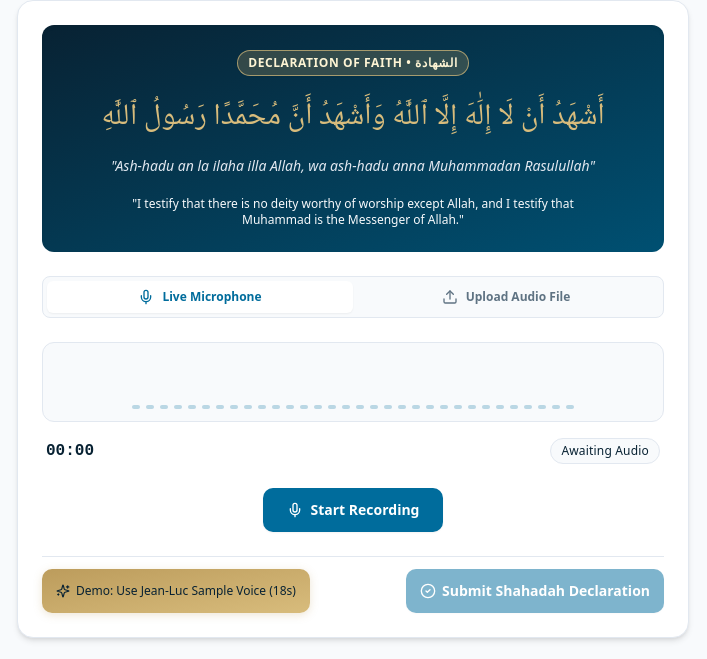
ShahadahRecorder Component (Task 3.1 & 3.2) › handles recording lifecycle: start recording, stop recording, and displays preview
Click the button "Start Recording".
click(353, 510)  # box [262,488,444,532]
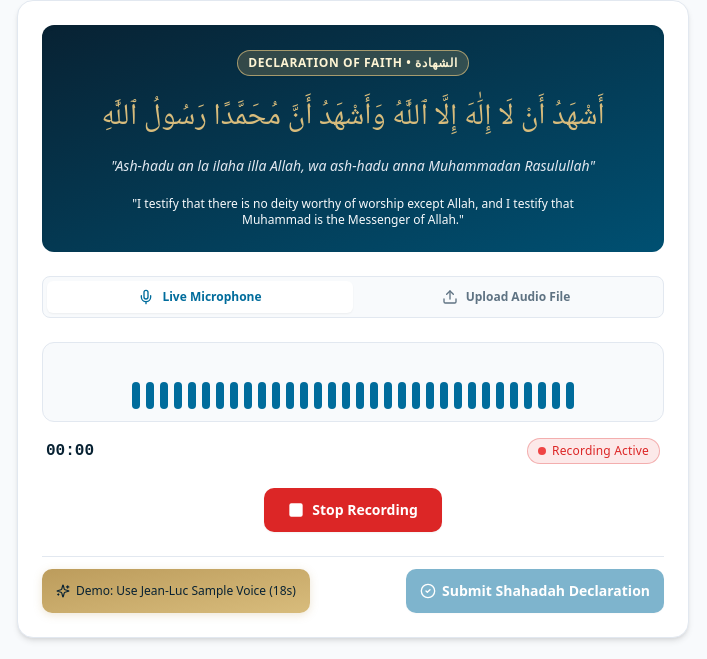
Check: the button "Stop Recording" is shown
Click the button "Stop Recording".
click(353, 510)  # box [264,488,442,532]
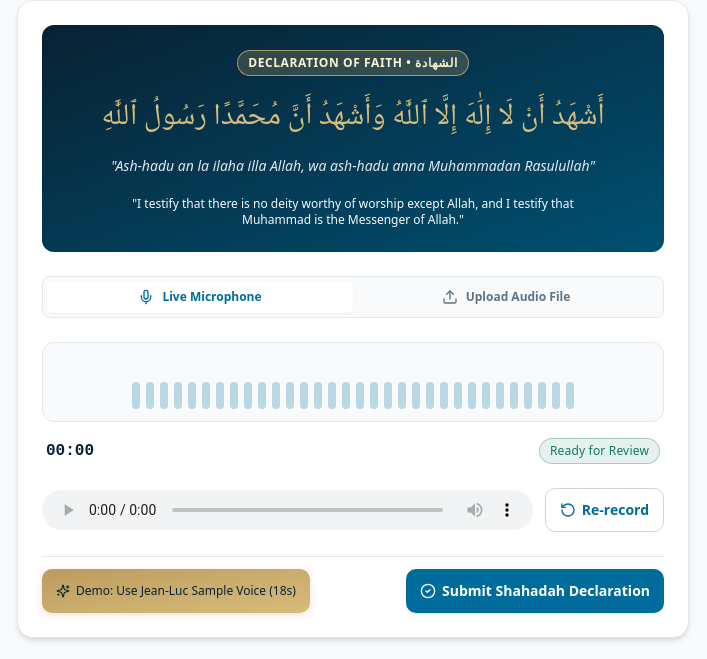
Check: the button "Re-record" is shown, box [545,488,664,532]
Check: the text "Ready for Review" is shown, box [539,438,660,464]
